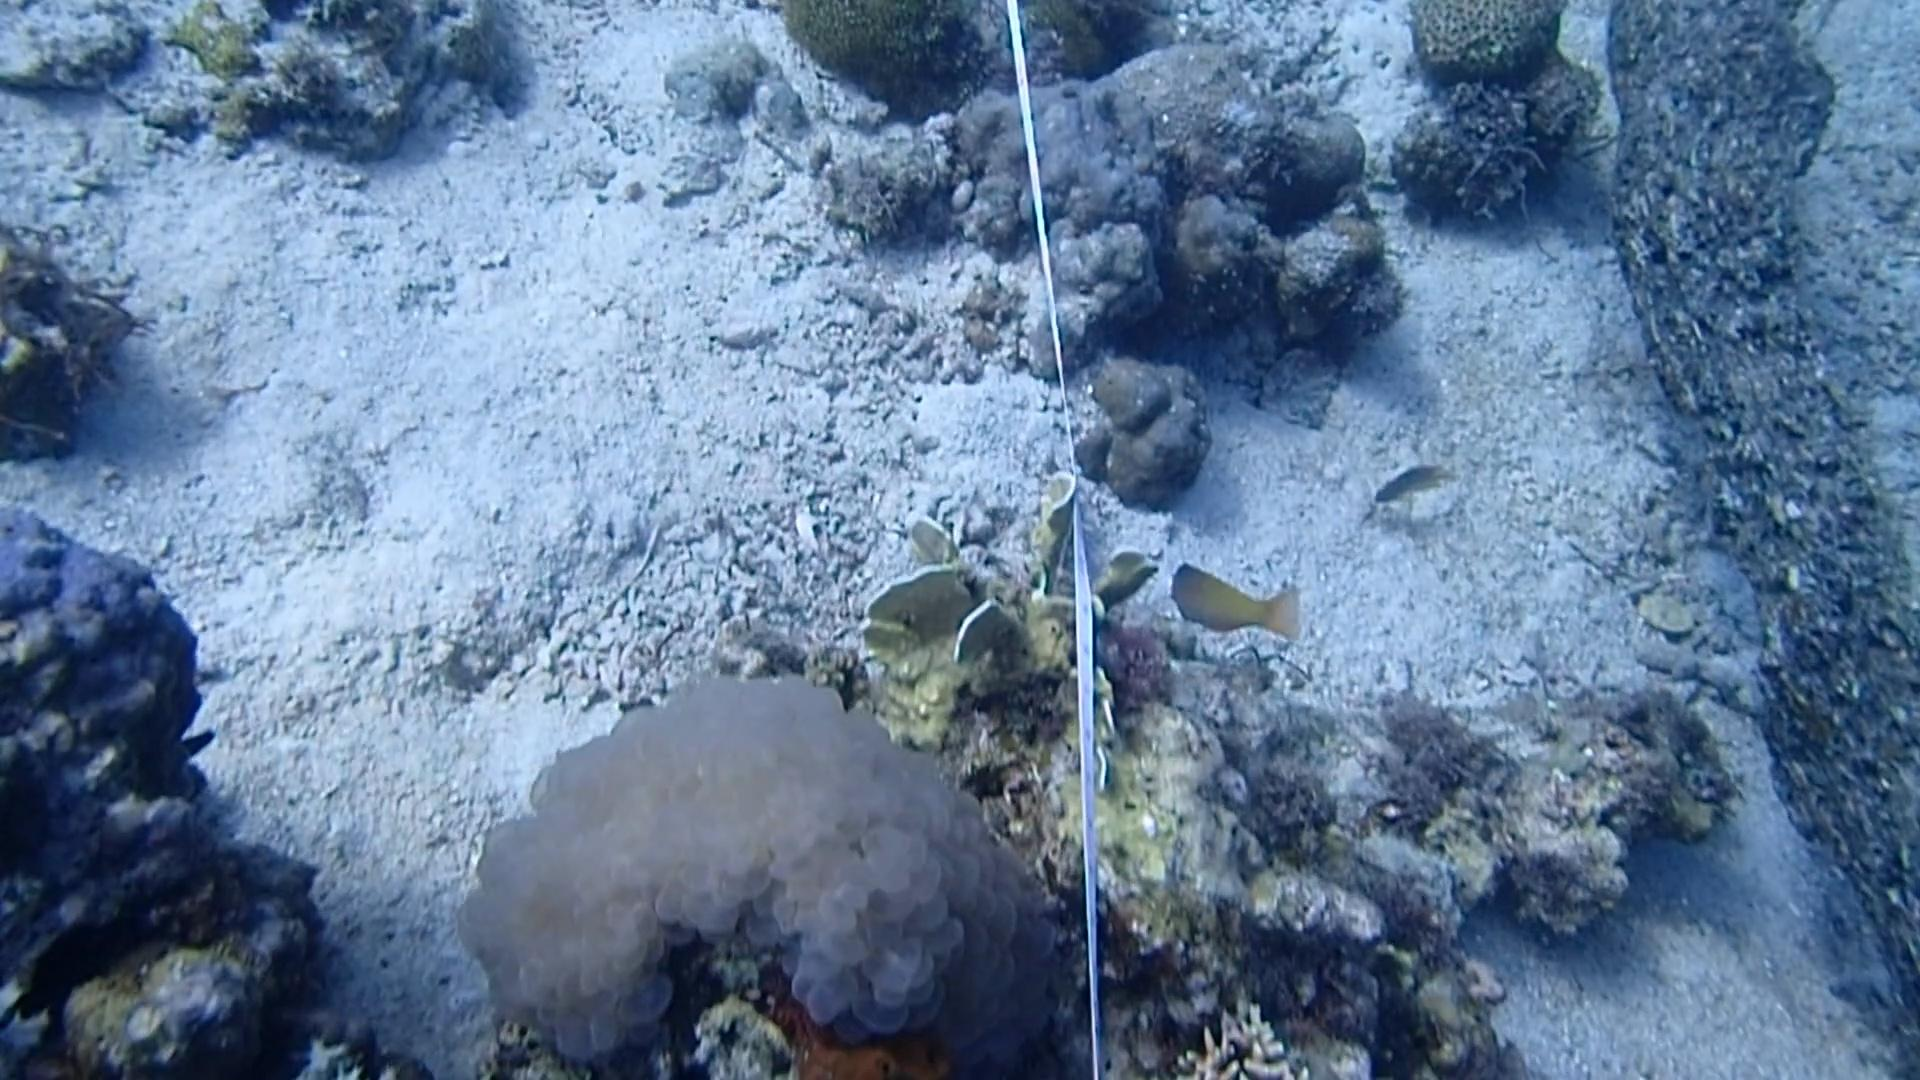Light Fish: (1352, 444, 1456, 520)
Yellow-Blue Fish: (1153, 542, 1312, 654)
